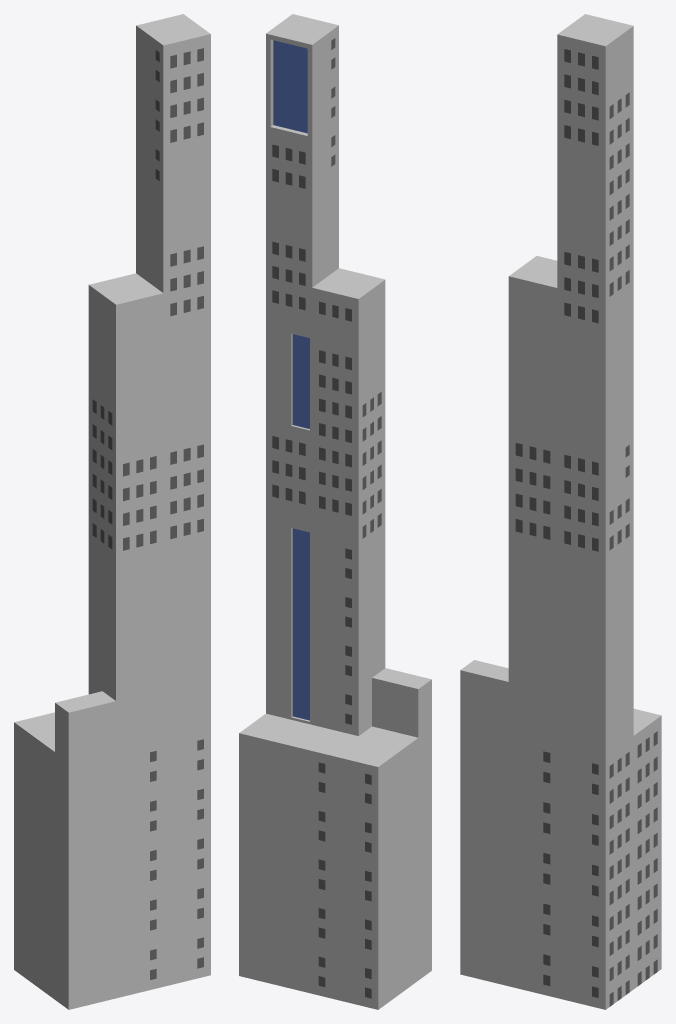
The model's file is SkyScraperModule03.fbx.
3 renders of one model, left to right at view 1: azimuth 30°, elevation 25°; view 2: azimuth 150°, elevation 25°; view 3: azimuth 330°, elevation 25°, orthographic. The views are drawn at different scales.
Parts seen in each view (by area): view 1: Skyscraper.003; view 2: Skyscraper.003; view 3: Skyscraper.003.
Boxes of the visible parts, x1,y1,x2,y2 form: Skyscraper.003: (14,14,210,1009); Skyscraper.003: (239,14,431,1009); Skyscraper.003: (460,14,661,1009).
Size of the model in its own units: 300 by 1900 by 200.
